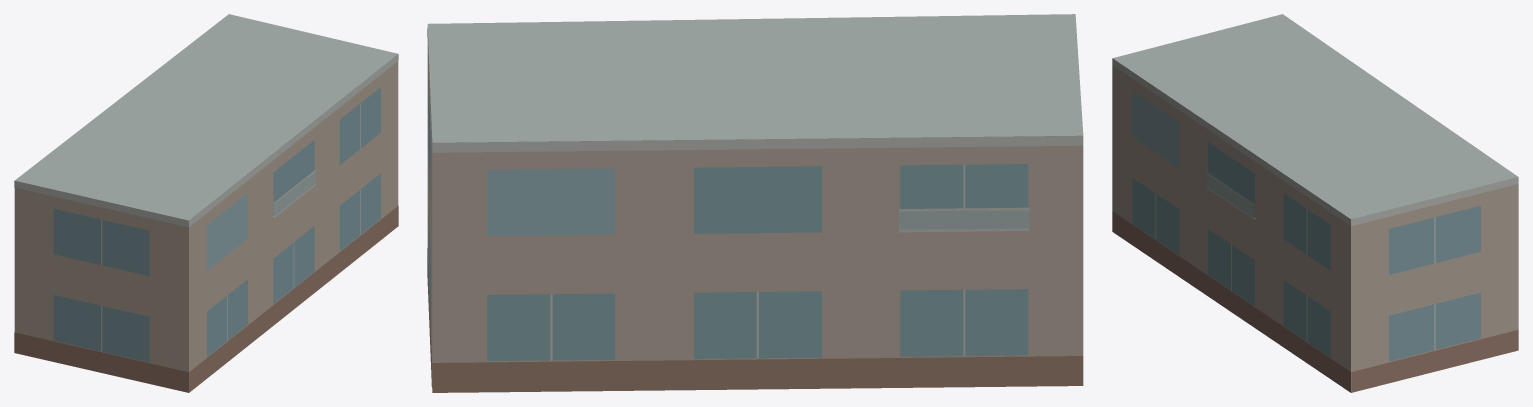
The model's file is survey-upis-32692344.glb.
The picture shows the model from 3 angles, left to right: view 1: azimuth 30°, elevation 25°; view 2: azimuth 150°, elevation 25°; view 3: azimuth 270°, elevation 25°; orthographic projection. The views are drawn at different scales.
Parts seen in each view (by area): view 1: survey-upis-32692344.tmp; view 2: survey-upis-32692344.tmp; view 3: survey-upis-32692344.tmp.
Boxes of the visible parts, bbox=[...] form: survey-upis-32692344.tmp: bbox=[14, 14, 398, 392]; survey-upis-32692344.tmp: bbox=[427, 14, 1083, 392]; survey-upis-32692344.tmp: bbox=[1112, 14, 1518, 392].
Size of the model in its own units: 15.49 by 6.1 by 12.95.
